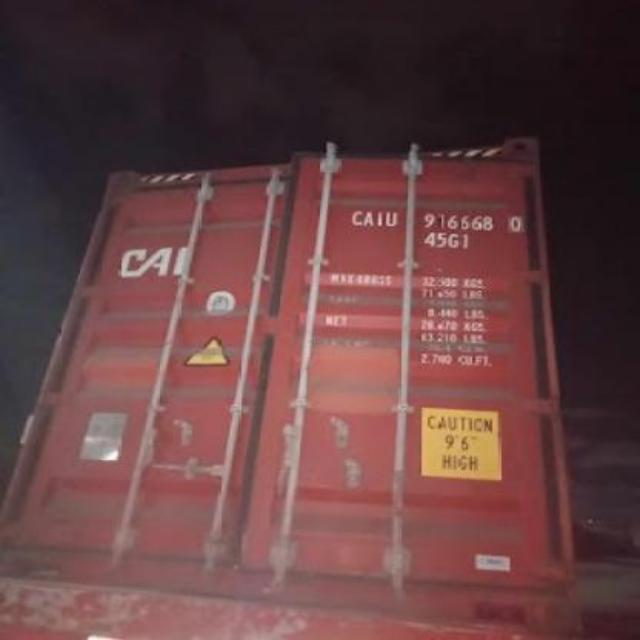0: (508, 212, 522, 234)
1: (432, 206, 446, 230)
6: (468, 203, 482, 235), (456, 203, 469, 233), (446, 205, 458, 231)
8: (482, 206, 492, 234)
9: (422, 206, 434, 230)
A: (361, 202, 374, 228)
C: (350, 206, 362, 227)
I: (371, 204, 384, 232)
U: (384, 206, 400, 230)
